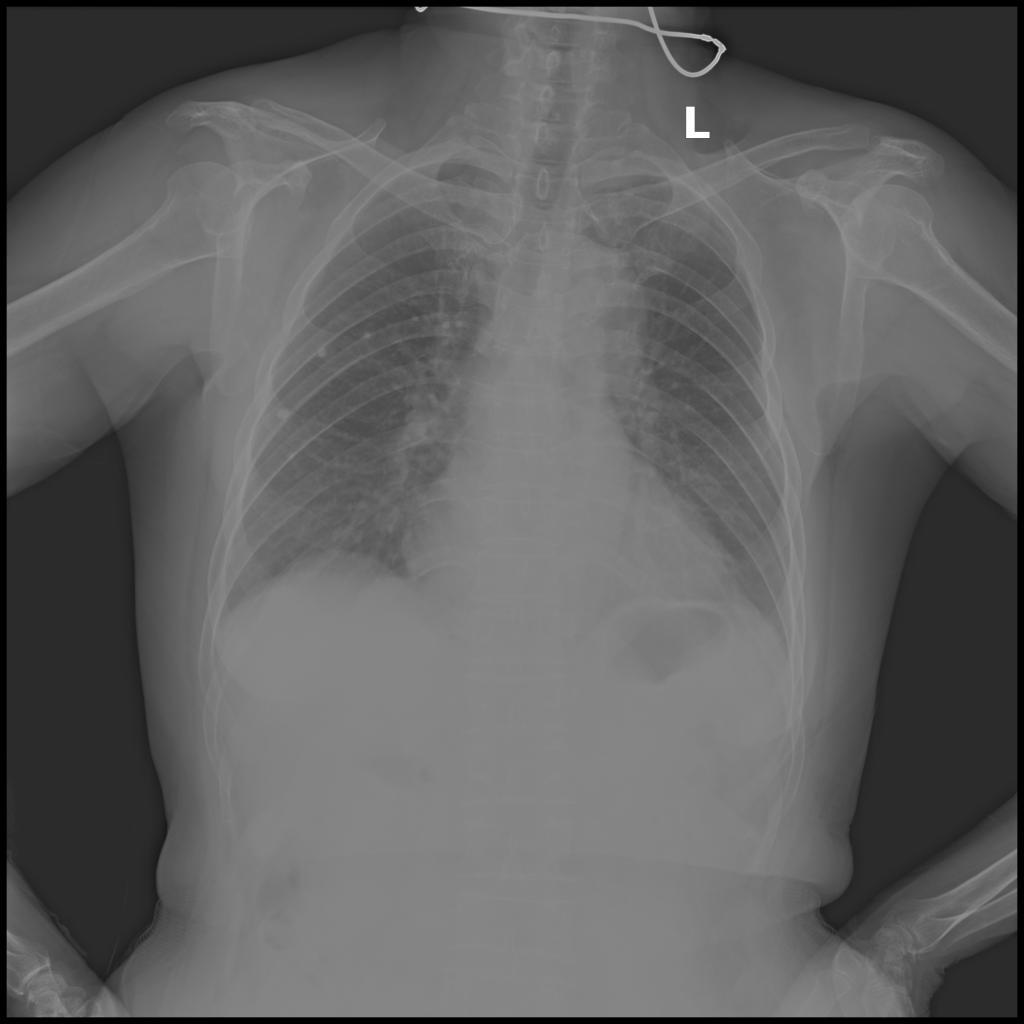Nodule: (440, 316, 468, 333), (314, 344, 332, 361), (275, 406, 293, 420), (410, 312, 423, 326), (362, 327, 373, 341)
